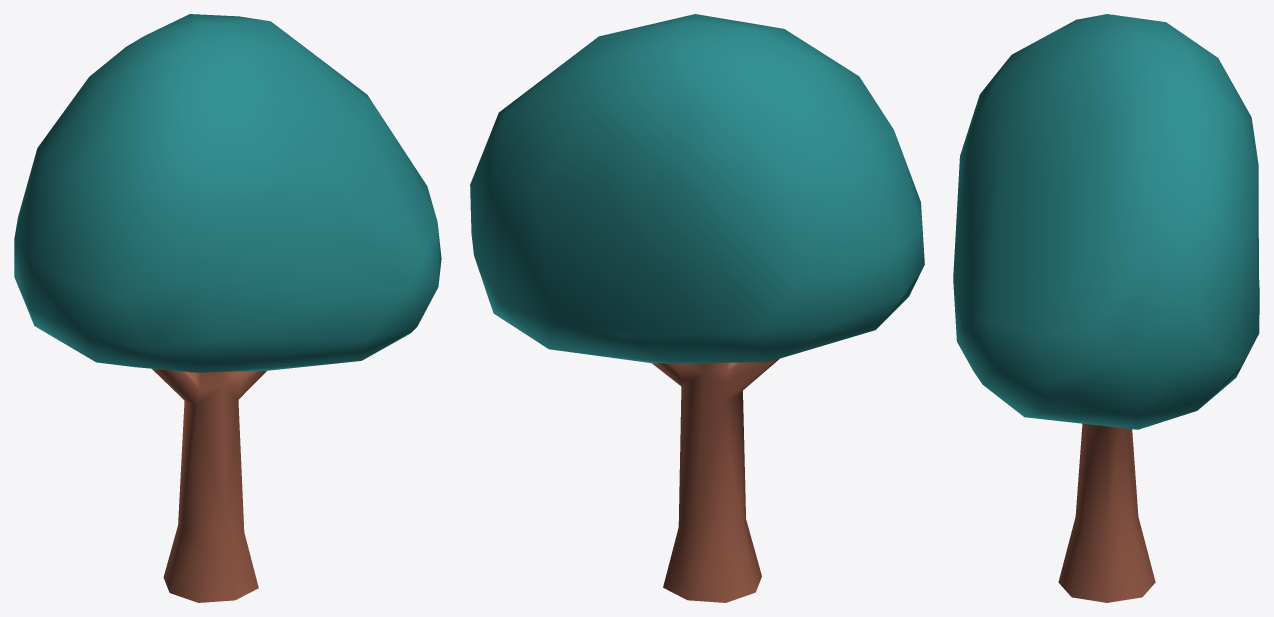
File: detail_treeA.gltf.glb
3 views of the same model, side by side, from view 1: azimuth 30°, elevation 25°; view 2: azimuth 150°, elevation 25°; view 3: azimuth 270°, elevation 25° (orthographic). The views are drawn at different scales.
Parts seen in each view (by area): view 1: detail_treeA; view 2: detail_treeA; view 3: detail_treeA.
Boxes of the visible parts, x1=… form: detail_treeA: x1=14, y1=14, x2=441, y2=602; detail_treeA: x1=470, y1=14, x2=924, y2=602; detail_treeA: x1=953, y1=14, x2=1259, y2=602.
Size of the model in its own units: 19454 by 25569 by 12833.
